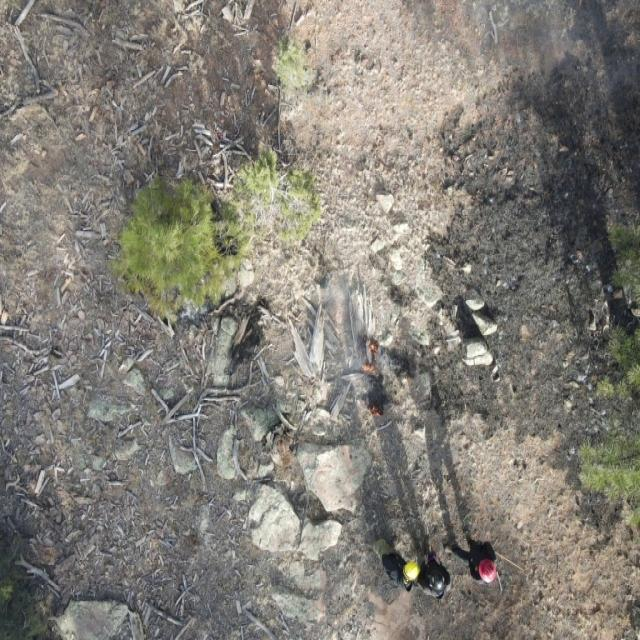fire: (361, 338, 379, 376), (369, 406, 384, 419)
smoke: (276, 220, 432, 432), (470, 0, 640, 134)
